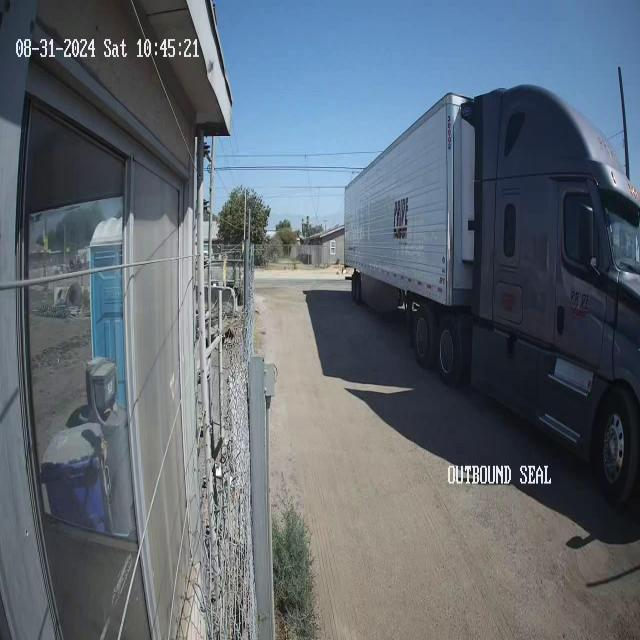TRUCK_IN: (343, 79, 639, 508)
